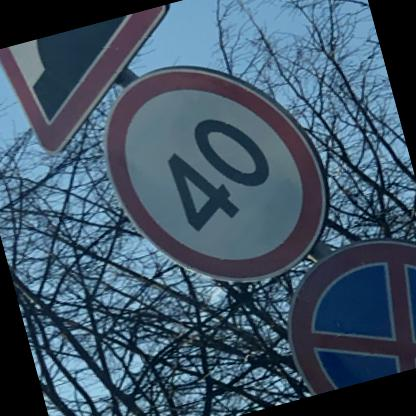speedlimit: (86, 34, 344, 310)
